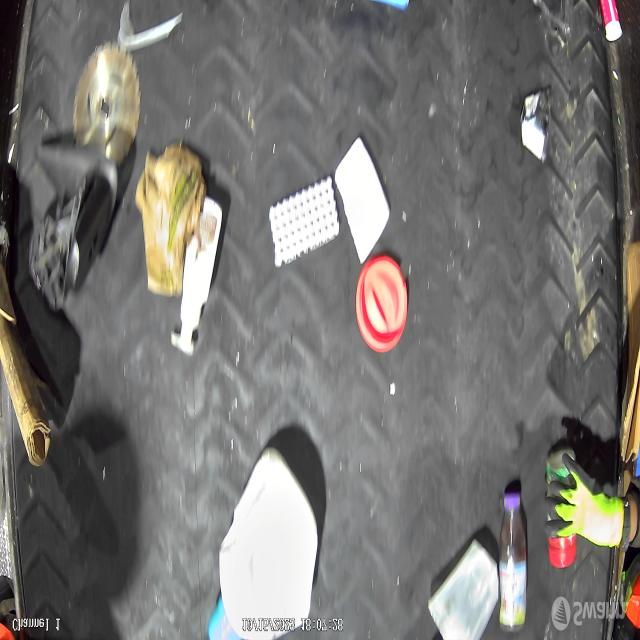can: (523, 80, 554, 161)
milk_jug: (220, 456, 319, 639)
